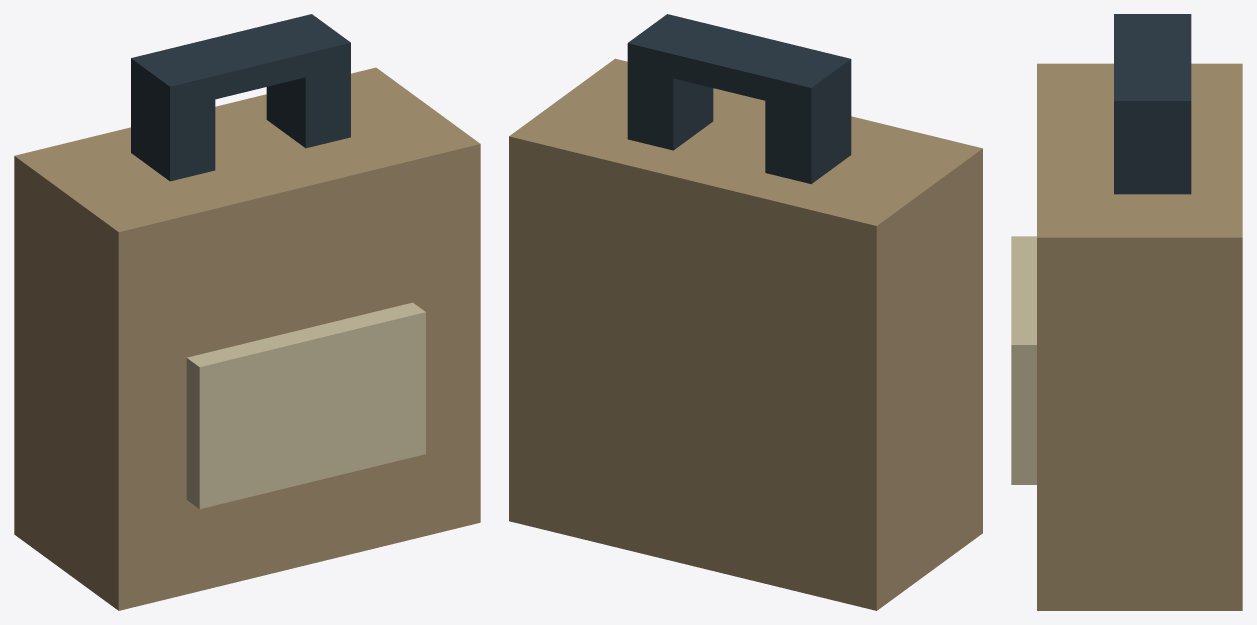
Rendered from pets-19.glb.
3 views of the same model, side by side, from view 1: azimuth 30°, elevation 25°; view 2: azimuth 150°, elevation 25°; view 3: azimuth 270°, elevation 25° (orthographic). The views are drawn at different scales.
Parts seen in each view (by area): view 1: Food bag; view 2: Food bag; view 3: Food bag.
Boxes of the visible parts, bbox=[...] form: Food bag: bbox=[14, 14, 480, 610]; Food bag: bbox=[509, 14, 982, 610]; Food bag: bbox=[1011, 14, 1242, 610].
Bounding box in the file's own units: 1.28 × 1.6 × 0.72.
